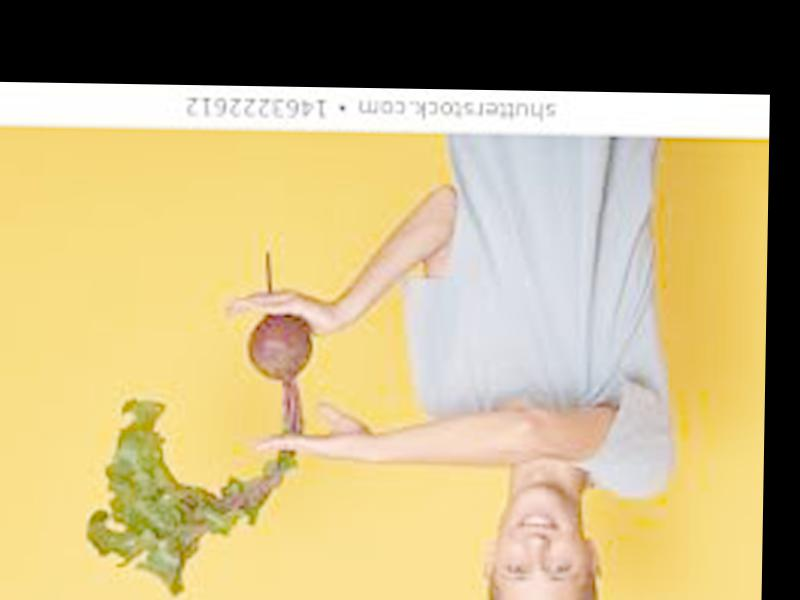Beet: (84, 250, 313, 598)
